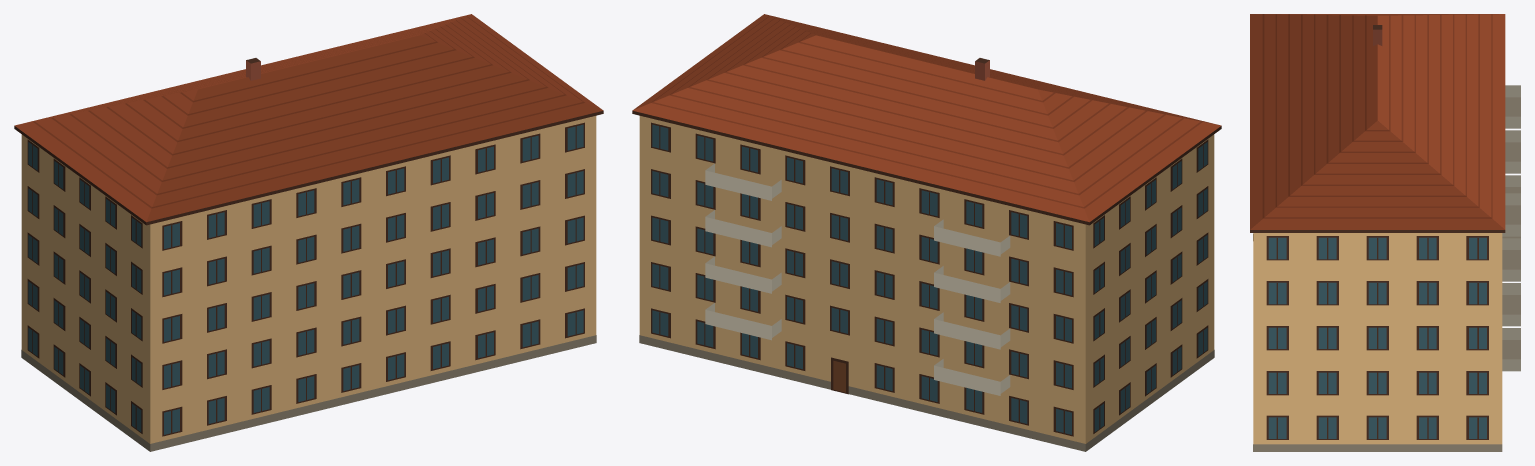
The model's file is ochre-balcony-flats.glb.
3 renders of one model, left to right at view 1: azimuth 30°, elevation 25°; view 2: azimuth 150°, elevation 25°; view 3: azimuth 270°, elevation 25°, orthographic. The views are drawn at different scales.
Parts seen in each view (by area): view 1: Ochre balcony flats; view 2: Ochre balcony flats; view 3: Ochre balcony flats.
Boxes of the visible parts, x1,y1,x2,y2 form: Ochre balcony flats: (14,14,603,451); Ochre balcony flats: (632,14,1221,451); Ochre balcony flats: (1250,14,1520,451).
Bounding box in the file's own units: 32.98 × 20.89 × 17.49.
